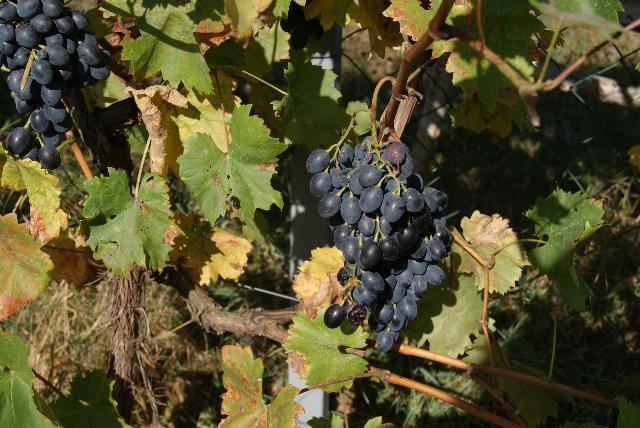grapes: (306, 99, 424, 329), (0, 0, 111, 170), (372, 188, 452, 351)
